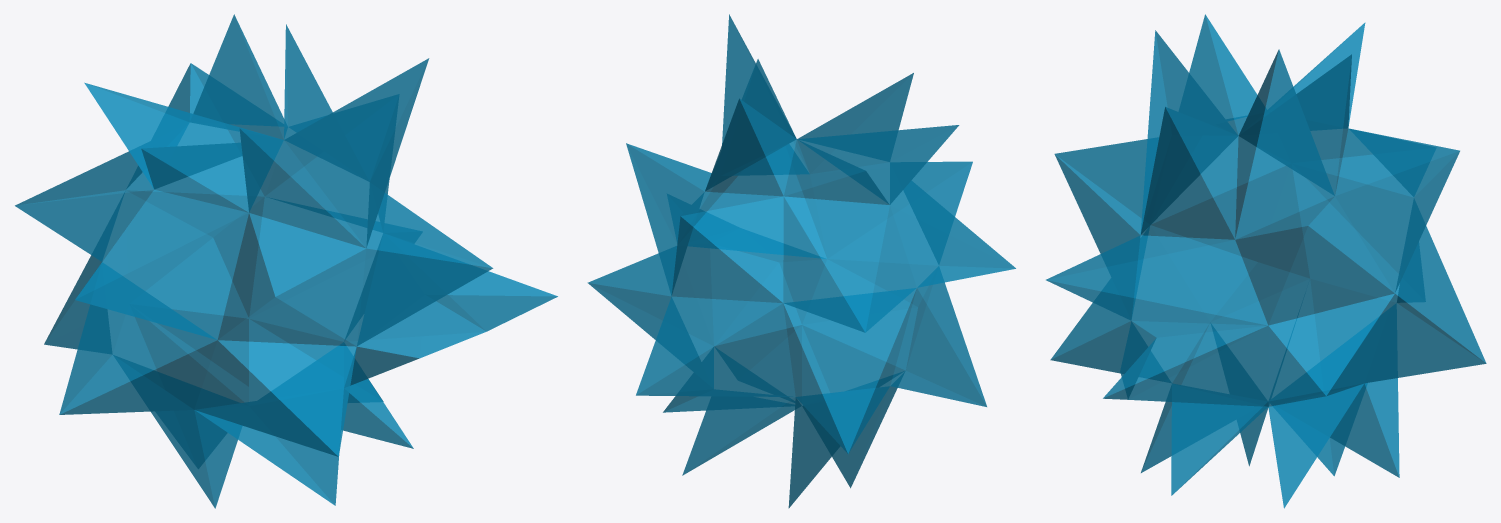
Rendered from crystal02.fbx.
3 renders of one model, left to right at view 1: azimuth 30°, elevation 25°; view 2: azimuth 150°, elevation 25°; view 3: azimuth 270°, elevation 25°, orthographic. The views are drawn at different scales.
Parts seen in each view (by area): view 1: crystal02; view 2: crystal02; view 3: crystal02.
Part boxes in pixels (<box>): crystal02: <box>15,14,557,508</box>; crystal02: <box>587,14,1015,508</box>; crystal02: <box>1046,14,1486,508</box>.
Size of the model in its own units: 213 by 214 by 186.
